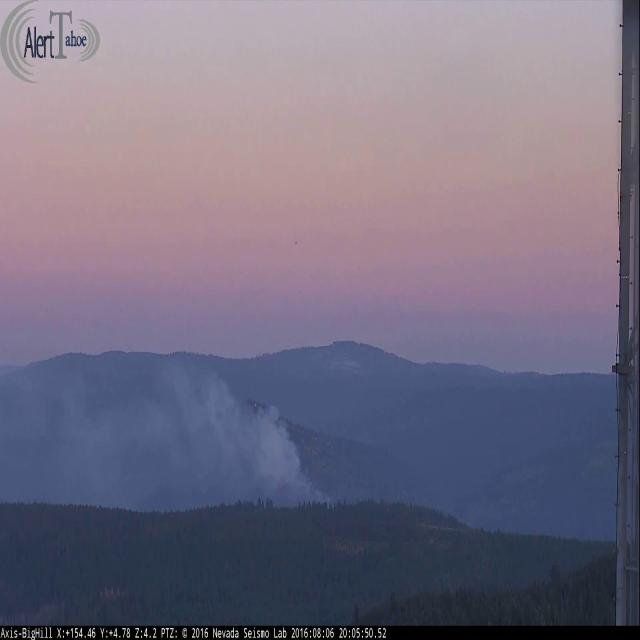smoke: (1, 299, 347, 521)
